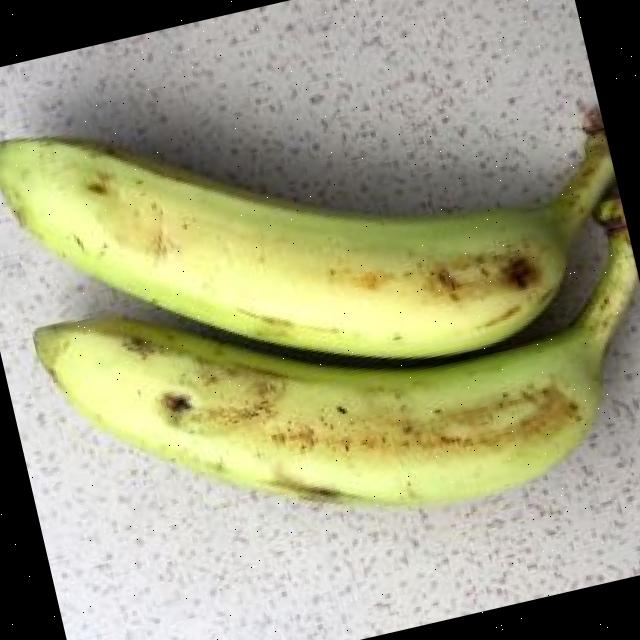banana: (33, 236, 636, 504), (0, 131, 615, 355)
